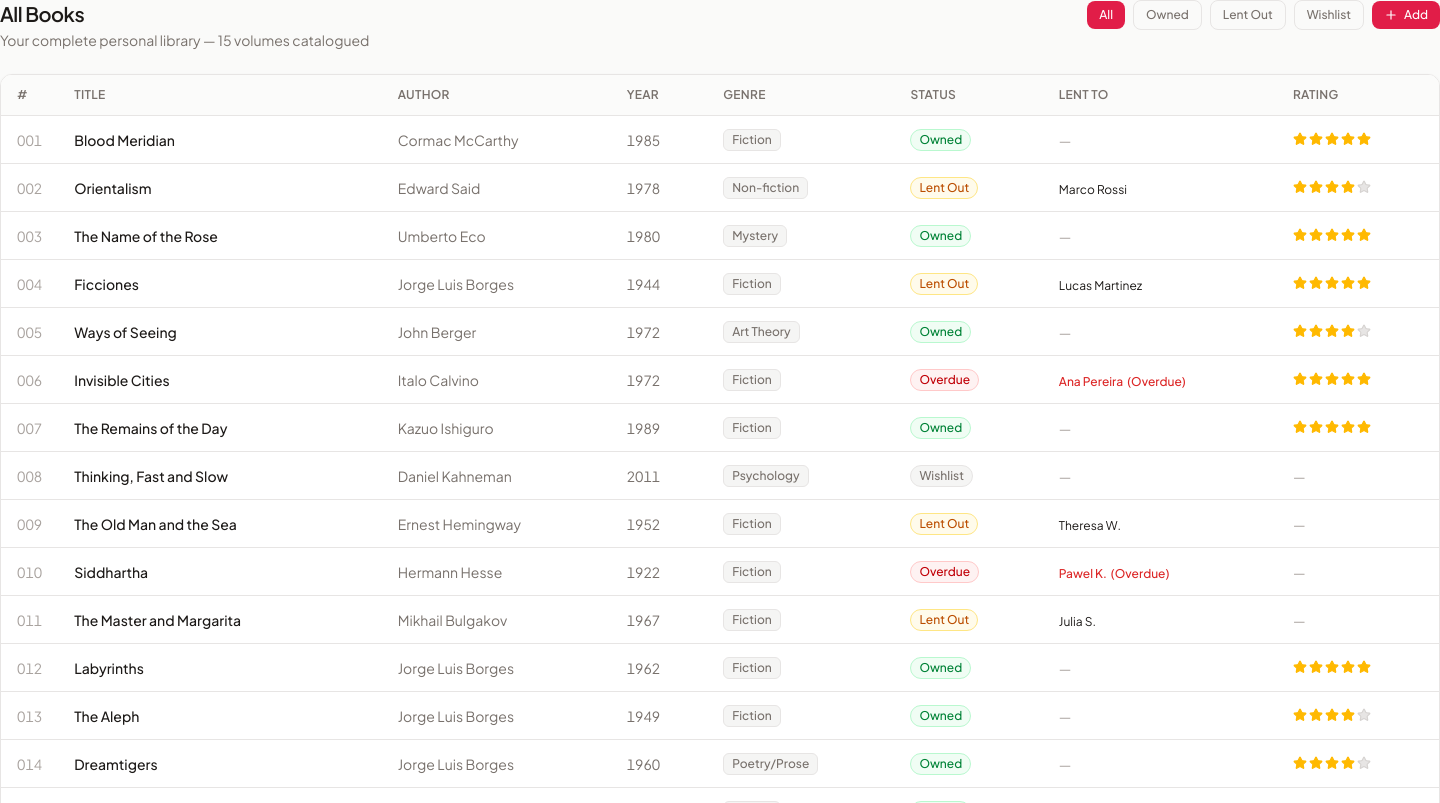
BooksPage component › filters to show only Lent Out books
Click the button "Lent Out": {"x": 1248, "y": 15} [1210,0,1286,30]
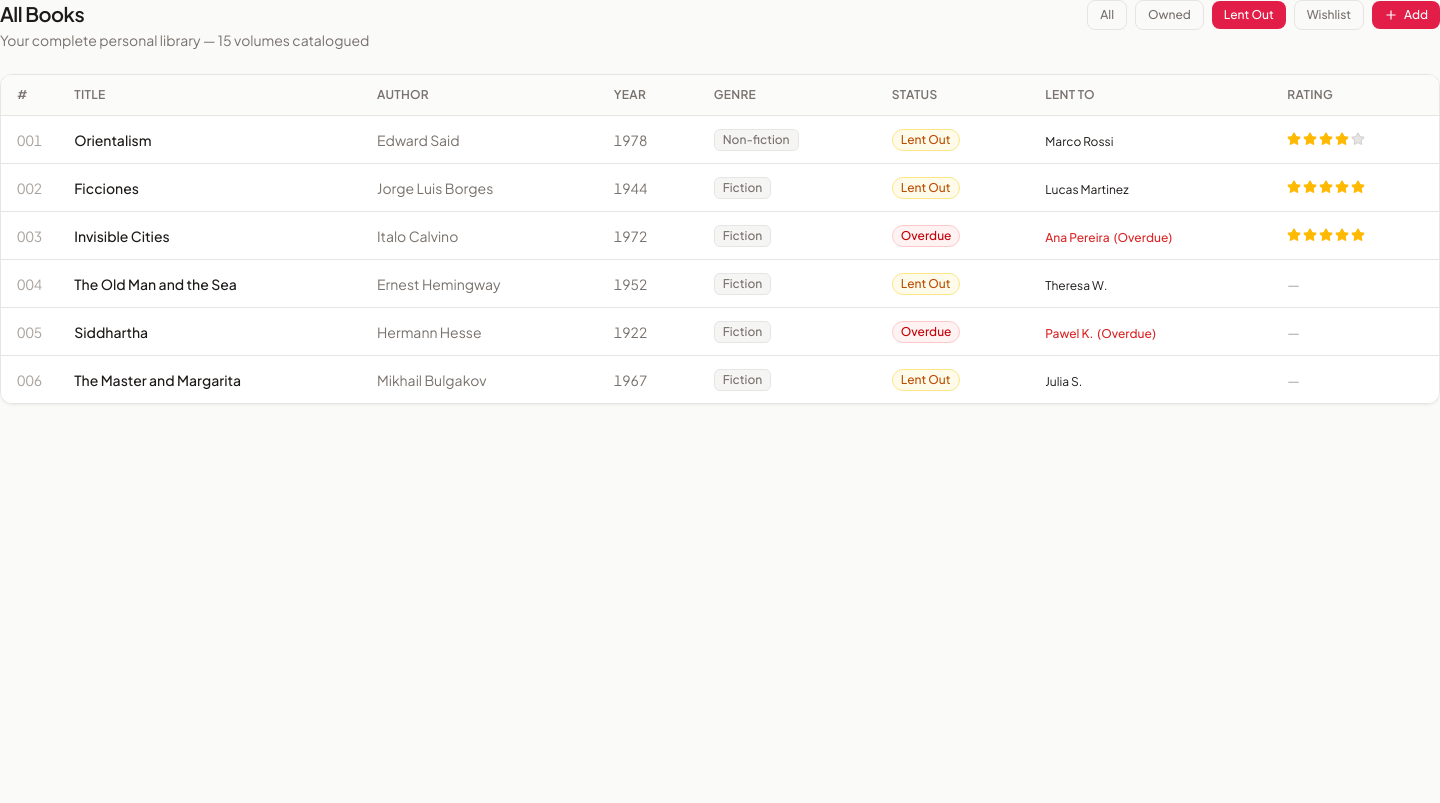
Expected: the text "Ficciones" is shown, [74,178,139,196]
Expected: the text "Blood Meridian" is gone
